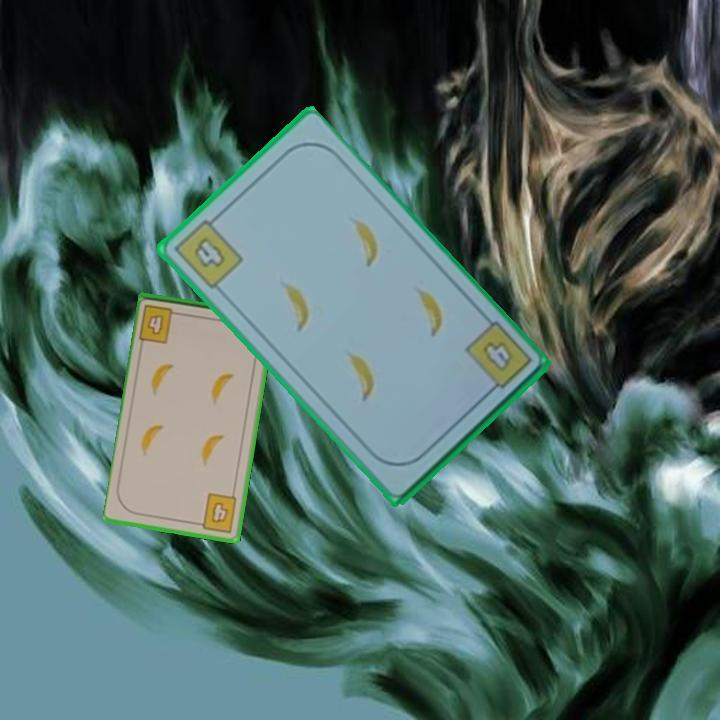4b: (170, 211, 246, 293), (461, 318, 535, 400), (136, 301, 185, 346), (193, 490, 240, 536)
